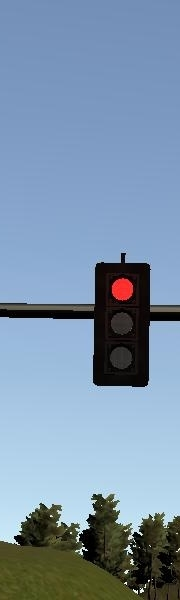Red: (94, 263, 148, 387)
